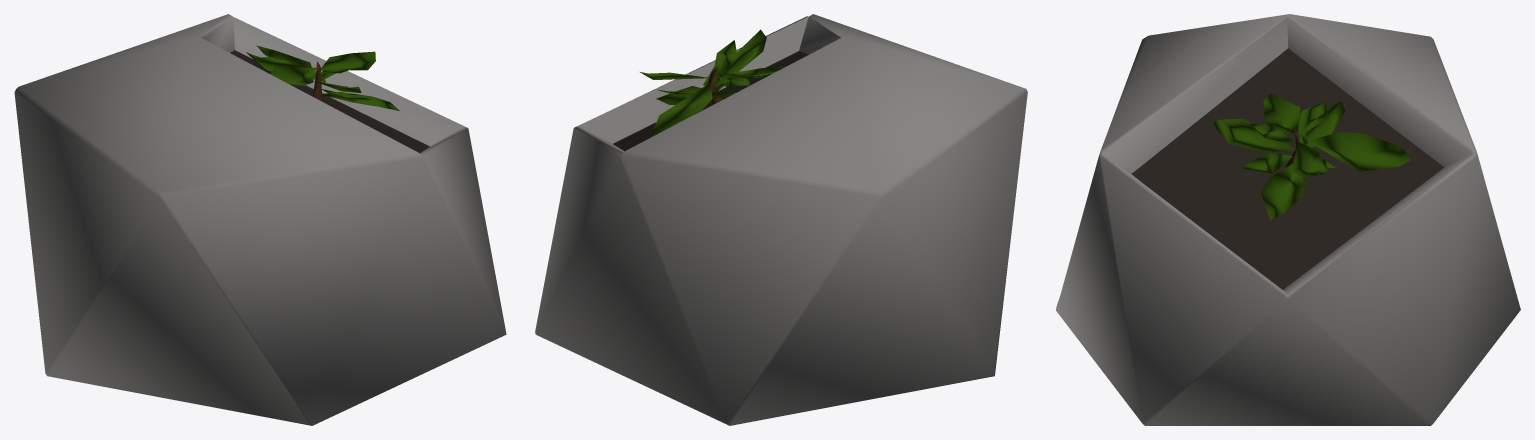
File: plant-small.lod1.glb
3 views of the same model, side by side, from view 1: azimuth 30°, elevation 25°; view 2: azimuth 150°, elevation 25°; view 3: azimuth 270°, elevation 25° (orthographic).
Visible parts, largest first — view 1: Pot_Concrete_0; view 2: Pot_Concrete_0; view 3: Pot_Concrete_0.
Boxes of the visible parts, <box> form: Pot_Concrete_0: <box>14,14,506,425</box>; Pot_Concrete_0: <box>535,14,1027,425</box>; Pot_Concrete_0: <box>1056,14,1520,425</box>.
Size of the model in its own units: 1.16 by 0.7972 by 1.12.
